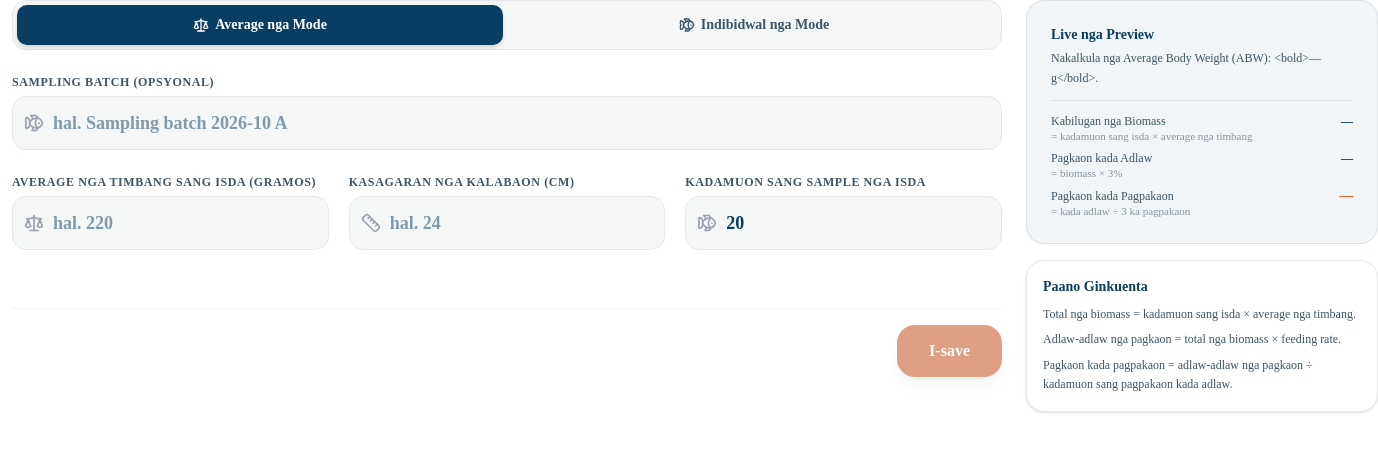
Test: biomass sample form in Hiligaynon (#591) › gives every individual-fish input and remove button a translated name
Click the button "Indibidwal nga Mode".
click(754, 25)  # box [511,5,997,45]
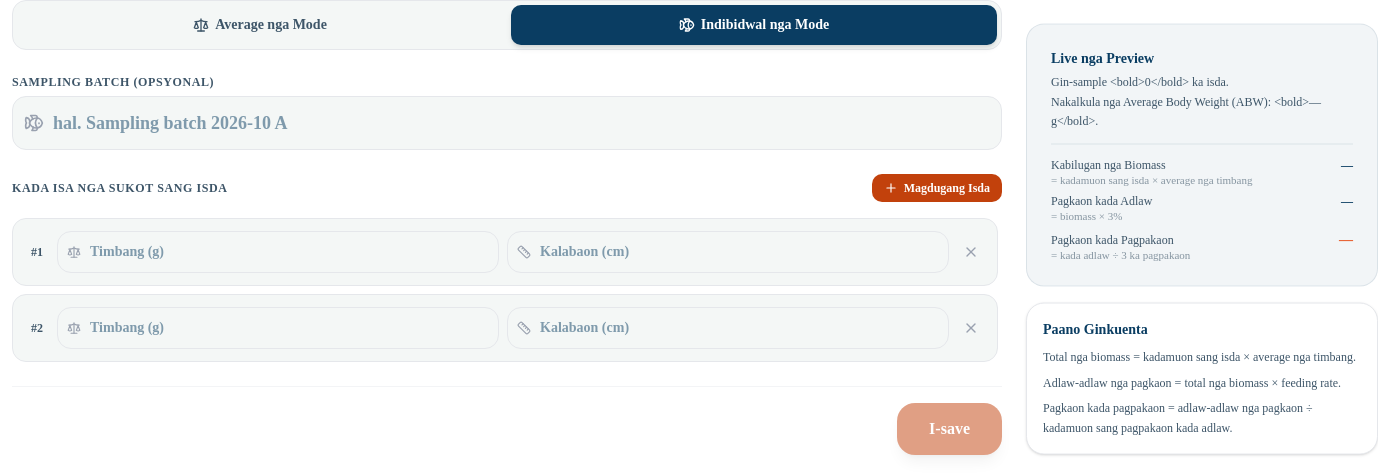
Now the number field named "Timbang sang isda 2 sa gramos" is shown, box [57,307,499,349]
Now the button named "Kuhaon ang isda 1" is enabled, box [957,238,985,266]
Now the button "Magdugang Isda" is shown, box [872,174,1002,202]
